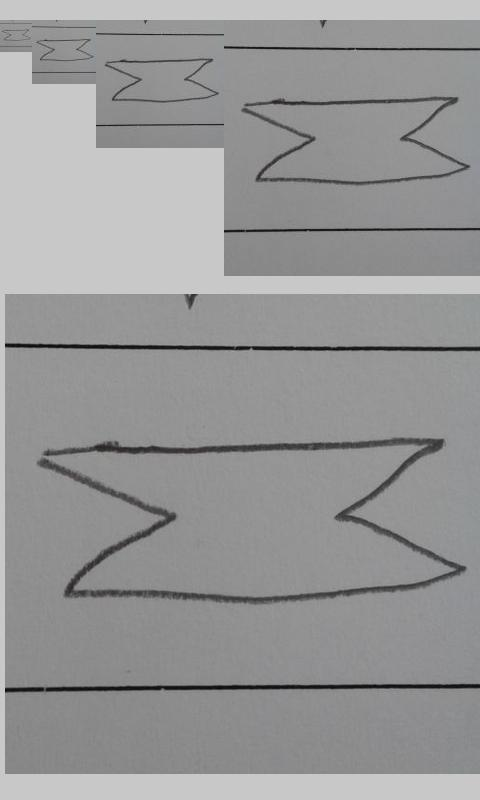edit_text: (37, 435, 468, 608), (240, 96, 469, 187), (105, 58, 219, 103), (36, 38, 94, 62), (2, 29, 31, 41)
